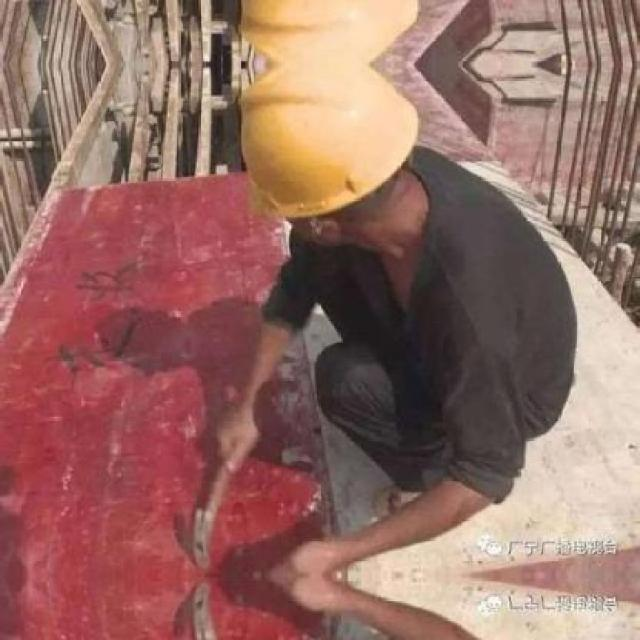helmet: (219, 63, 443, 266), (218, 0, 444, 65)
